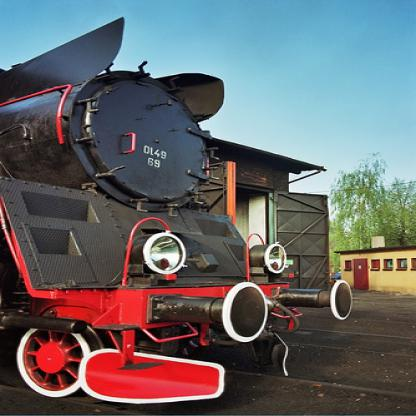train: (0, 15, 353, 407)
